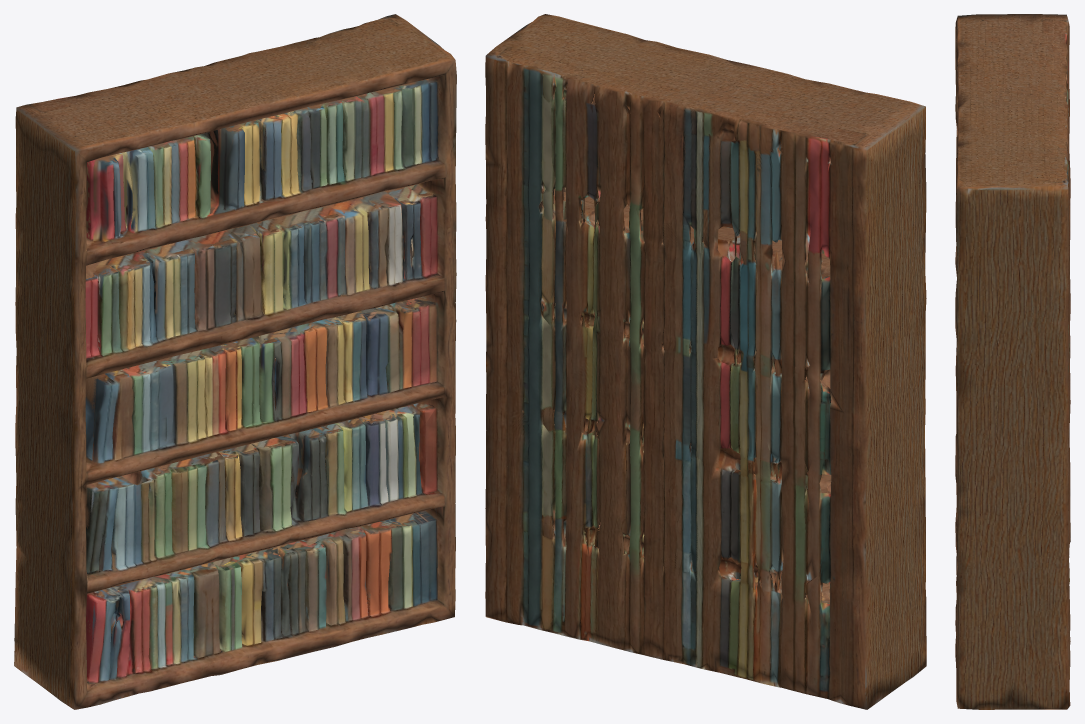
File: CassetteShelf.glb
3 views of the same model, side by side, from view 1: azimuth 30°, elevation 25°; view 2: azimuth 150°, elevation 25°; view 3: azimuth 270°, elevation 25° (orthographic). The views are drawn at different scales.
Parts seen in each view (by area): view 1: texture_mapping; view 2: texture_mapping; view 3: texture_mapping.
Part boxes in pixels (<box>): texture_mapping: <box>14,14,456,709</box>; texture_mapping: <box>485,14,926,709</box>; texture_mapping: <box>955,14,1070,709</box>.
Bounding box in the file's own units: 0.7186 × 1.01 × 0.2013.
1 material, 1 textured.
